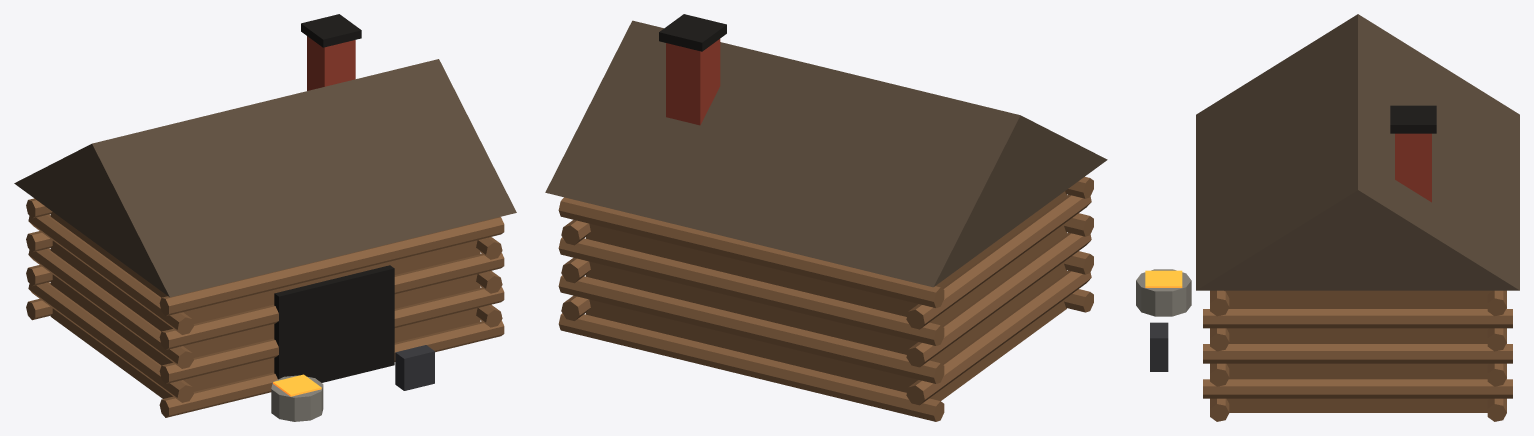
Rendered from smithy.glb.
3 views of the same model, side by side, from view 1: azimuth 30°, elevation 25°; view 2: azimuth 150°, elevation 25°; view 3: azimuth 270°, elevation 25° (orthographic). The views are drawn at different scales.
Parts seen in each view (by area): view 1: Smithy; view 2: Smithy; view 3: Smithy.
Part boxes in pixels (x1,y1,x2,y2): Smithy: [14, 14, 516, 421]; Smithy: [545, 14, 1107, 421]; Smithy: [1136, 14, 1519, 421].
Bounding box in the file's own units: 9 × 6.4 × 8.3.
